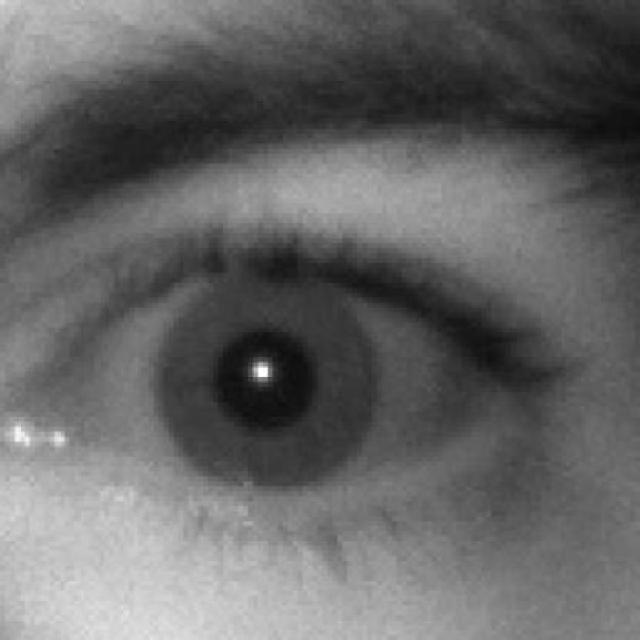awake: (0, 220, 526, 535)
